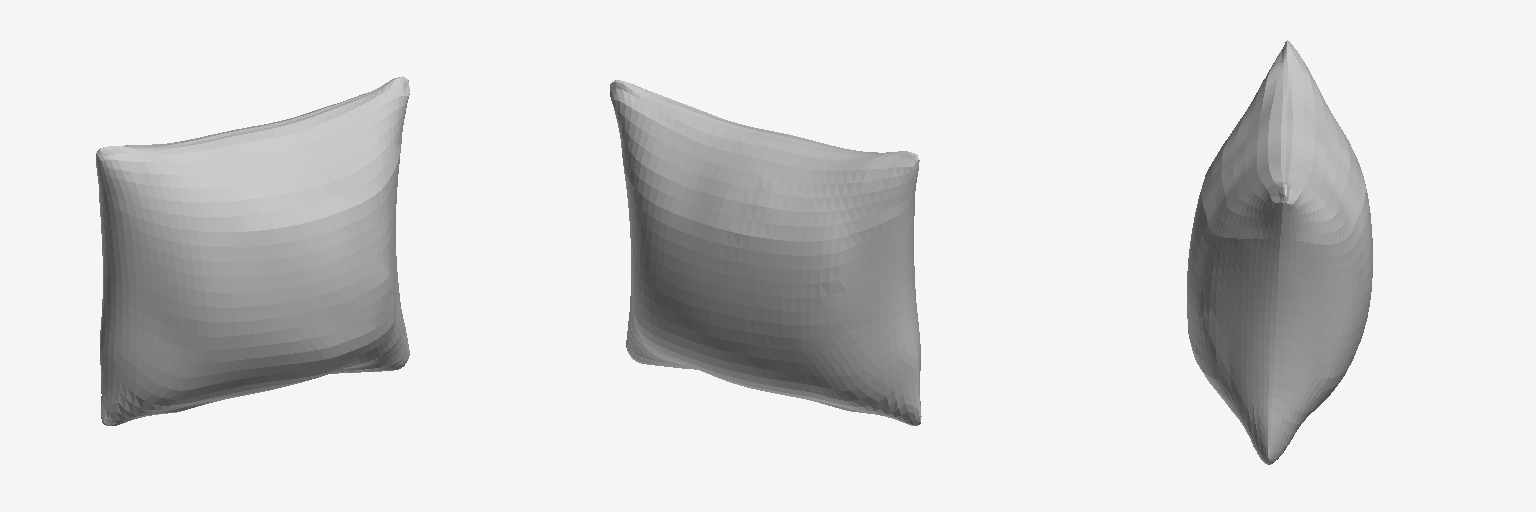
File: pillow.obj
3 renders of one model, left to right at view 1: azimuth 30°, elevation 25°; view 2: azimuth 150°, elevation 25°; view 3: azimuth 270°, elevation 25°, orthographic.
Parts seen in each view (by area): view 1: Ashley_homestore_pillow_flower; view 2: Ashley_homestore_pillow_flower; view 3: Ashley_homestore_pillow_flower.
Part boxes in pixels (left/top/right/bottom): Ashley_homestore_pillow_flower: left=96, top=76, right=409, bottom=425; Ashley_homestore_pillow_flower: left=610, top=80, right=921, bottom=425; Ashley_homestore_pillow_flower: left=1187, top=40, right=1372, bottom=464.
Bounding box in the file's own units: 12.2 × 10.7 × 6.34.